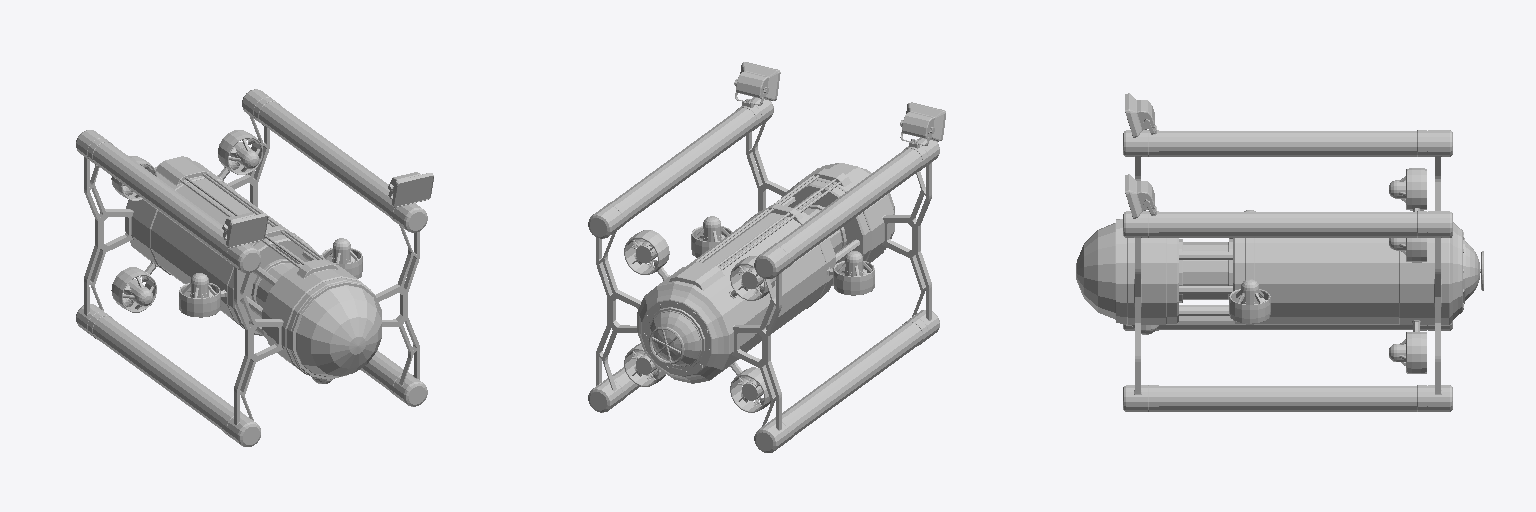
Rendered from sketchfab.obj.
The picture shows the model from 3 angles: view 1: azimuth 30°, elevation 25°; view 2: azimuth 150°, elevation 25°; view 3: azimuth 270°, elevation 25°; orthographic projection.
Visible parts, largest first — view 1: bodybase_low; view 2: bodybase_low; view 3: bodybase_low.
Part boxes in pixels (x1,y1,x2,y2): bodybase_low: (76, 89, 433, 446); bodybase_low: (588, 62, 945, 452); bodybase_low: (1076, 93, 1483, 411).
Size of the model in its own units: 2.35 by 2.53 by 4.1.